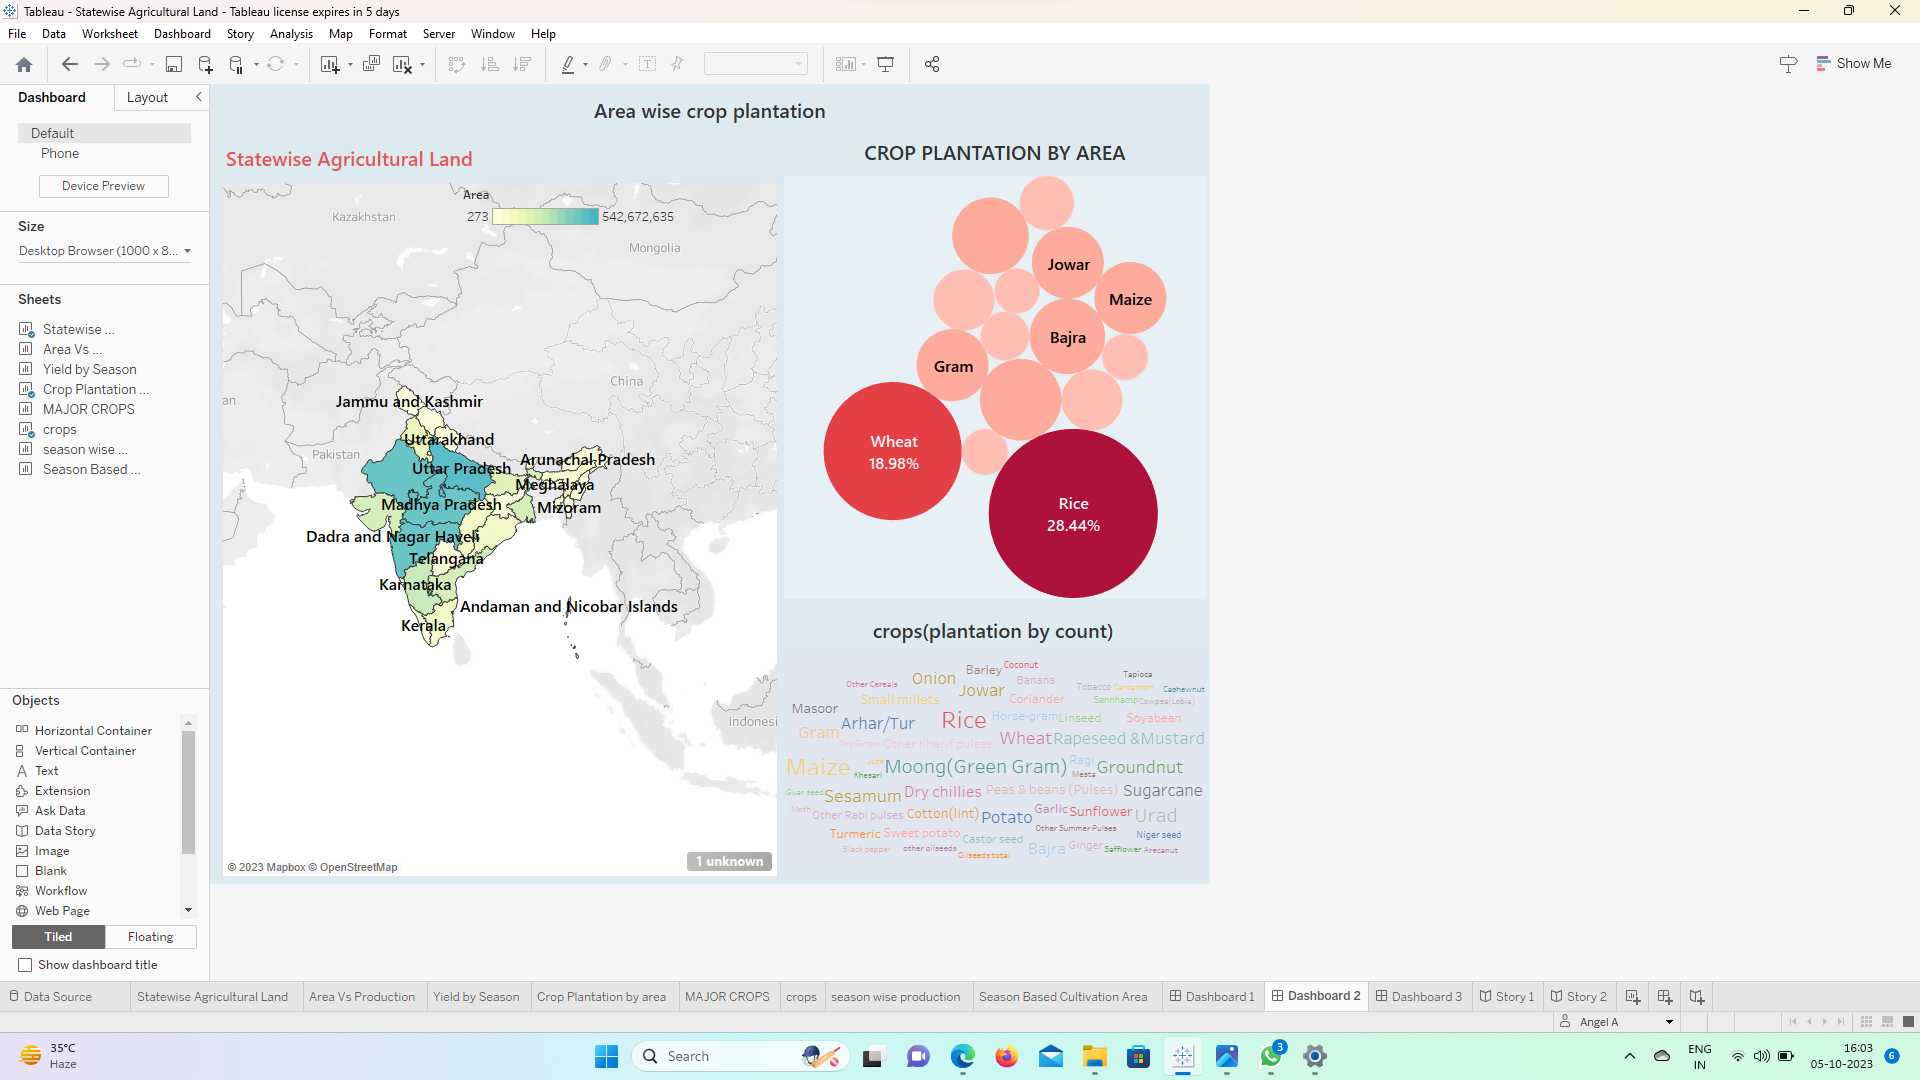

The dashboard page shown, as its layout file describes it:
{"tool":"tableau","page":{"name":"Dashboard 2","canvas":[1000,800],"ordinal":1},"visuals":[{"type":"title","box":[8,8,984,35]},{"type":"worksheet","title":"Crop Plantation by area","mark":"Circle","box":[574,50,422,518]},{"type":"worksheet","title":"Statewise Agricultural Land","mark":"Automatic","box":[12,56,556,737]},{"type":"legend","title":"Statewise Agricultural Land","param":"[federated.061h10g1n3oqdy13dc7ra1b982wl].[sum:Area:qk]","box":[253,102,216,76]},{"type":"worksheet","title":"crops","mark":"Text","box":[576,528,420,266]}]}

Visuals, with their boxes on the page's 1000x800 design canvas (x1, y1, x2, y2). These are canvas units, not pixel positions in the 1920x1080 screenshot, which may show the page scaled, cropped or inside an application window:
title: [left=8, top=8, right=992, bottom=43]
"Crop Plantation by area" worksheet (Circle marks): [left=574, top=50, right=996, bottom=568]
"Statewise Agricultural Land" worksheet: [left=12, top=56, right=568, bottom=793]
"Statewise Agricultural Land" legend: [left=253, top=102, right=469, bottom=178]
"crops" worksheet (Text marks): [left=576, top=528, right=996, bottom=794]
